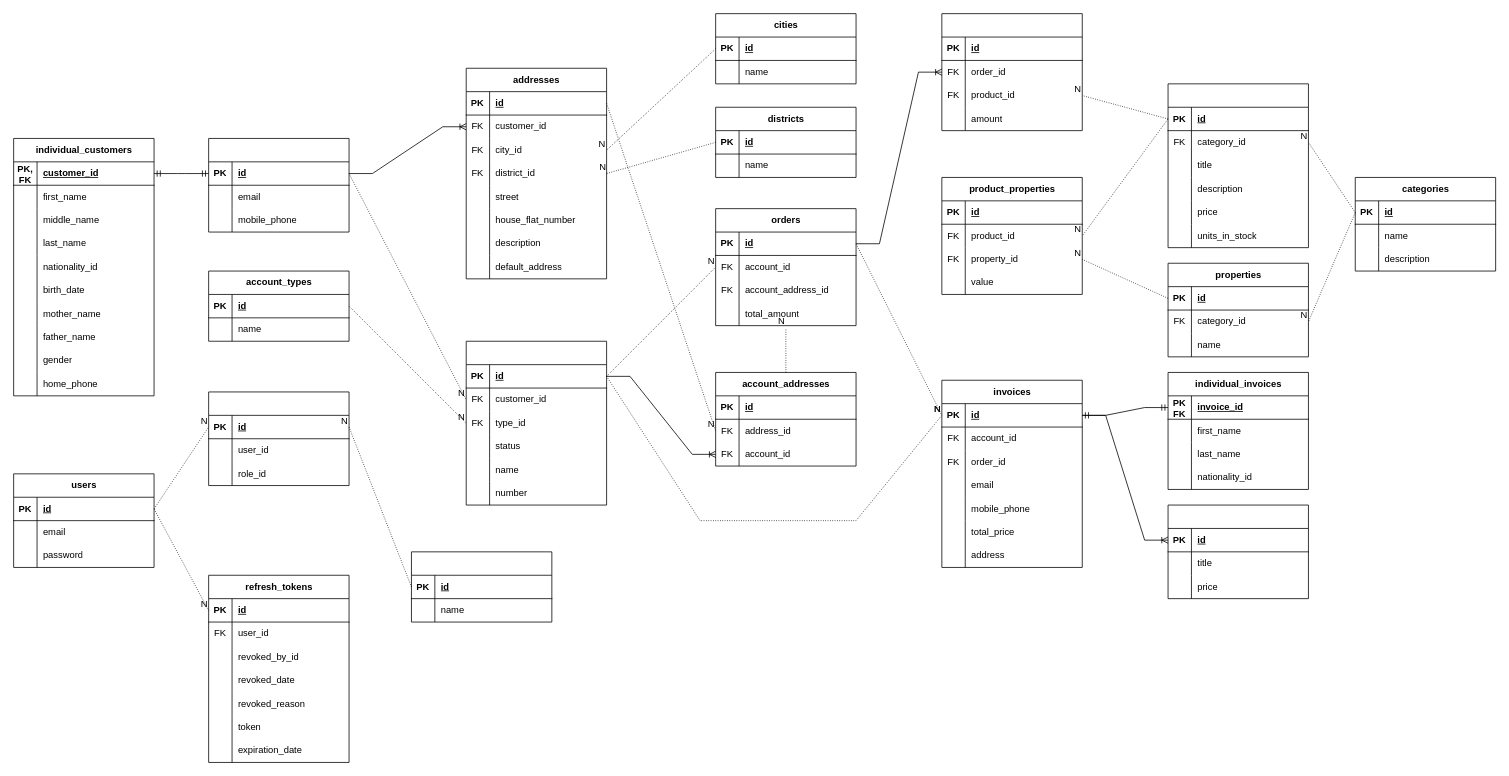
This 1509x776 diagram has some shape labels left out. Here are the shapes that lost their labels. From the top down, the box of each, then its label:
(941, 13, 1082, 131): order_items
(208, 138, 349, 232): customers
(1167, 83, 1308, 248): products
(208, 391, 349, 486): user_roles
(465, 340, 607, 505): accounts
(1167, 504, 1308, 599): invoice_products
(411, 551, 552, 622): role
